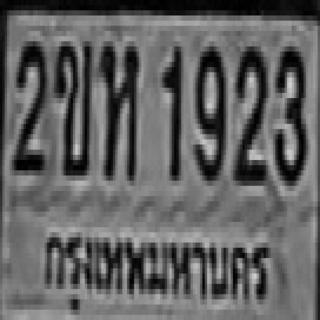A02: (53, 36, 91, 170)
A41: (99, 41, 137, 176)
N01: (160, 41, 181, 176)
N02: (232, 41, 265, 181), (12, 36, 45, 170)
N03: (273, 41, 304, 181)
N09: (193, 41, 223, 176)
P04: (40, 216, 273, 320)
